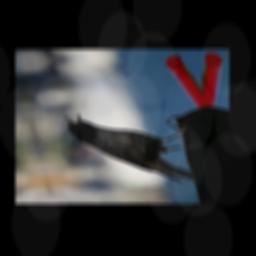Crow: (61, 105, 204, 191)
